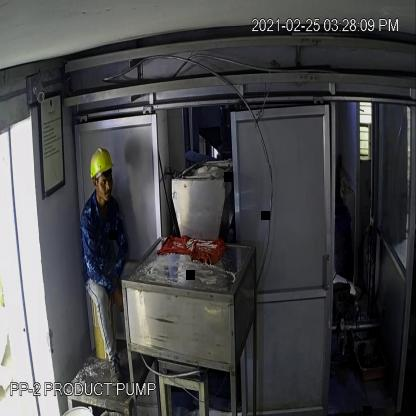helmet: (88, 145, 118, 189)
